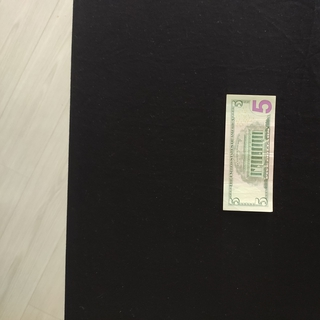5USDBack: (221, 94, 276, 212)
